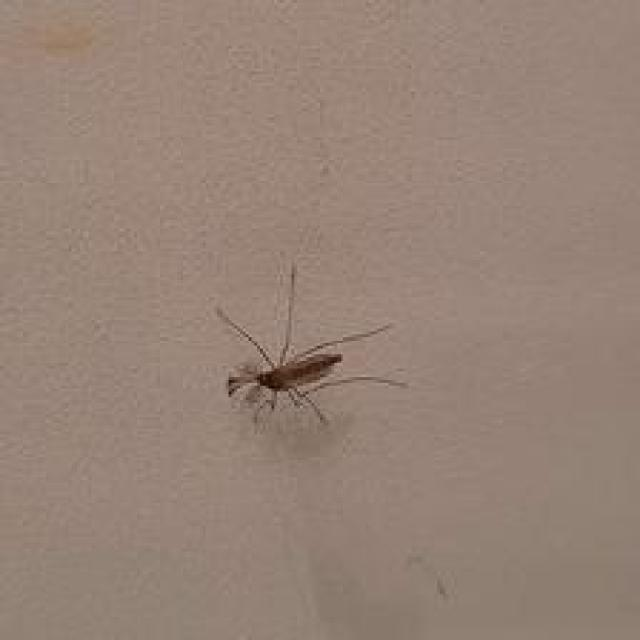Culex: (214, 261, 409, 430)
